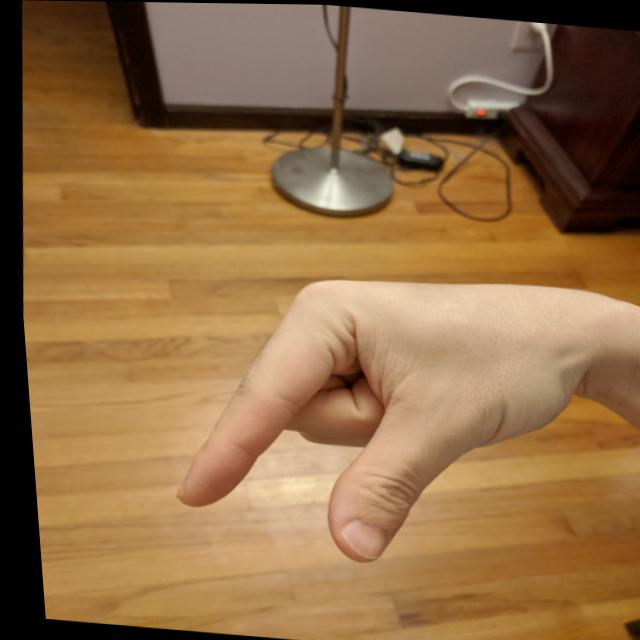Q: (142, 248, 611, 588)
